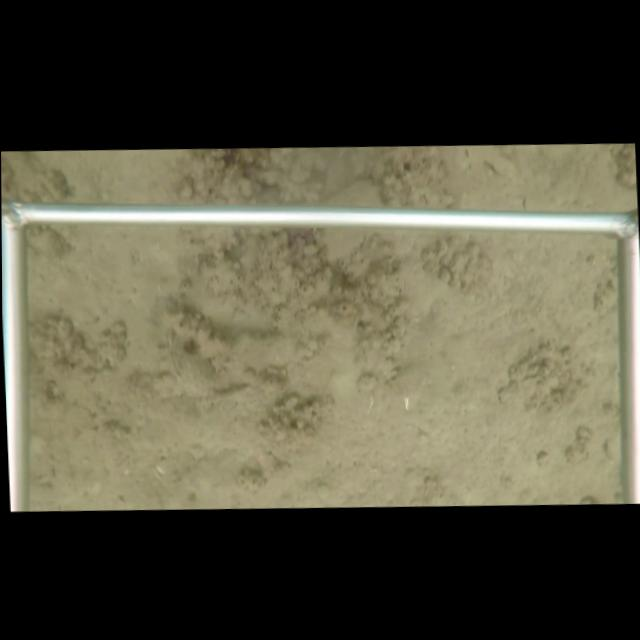Oyster-Closed: (162, 310, 264, 403)
